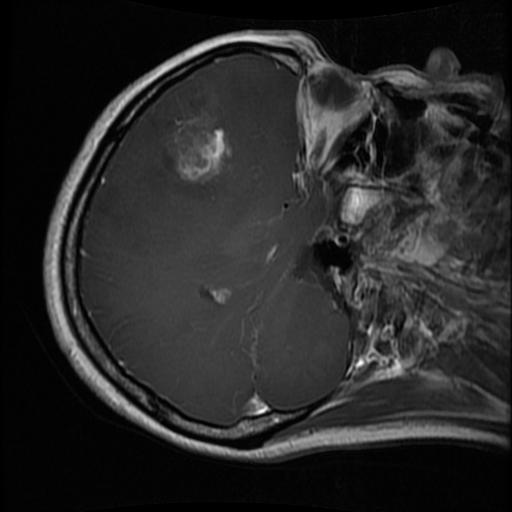glioma: (165, 113, 233, 187)
